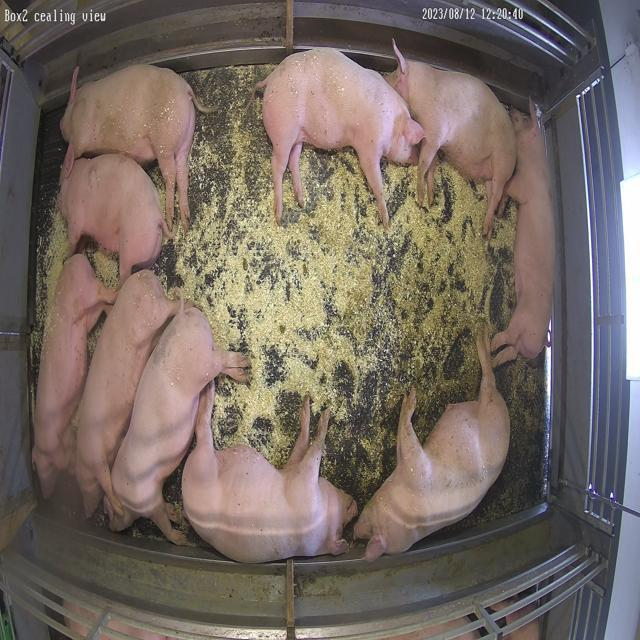Dirt: (500, 357, 548, 516)
Pig: (355, 329, 511, 562), (111, 303, 248, 544), (183, 383, 357, 564), (256, 48, 425, 226), (74, 270, 178, 518), (388, 40, 517, 238), (60, 64, 207, 230), (32, 254, 117, 498), (494, 102, 557, 364), (58, 154, 167, 284)
